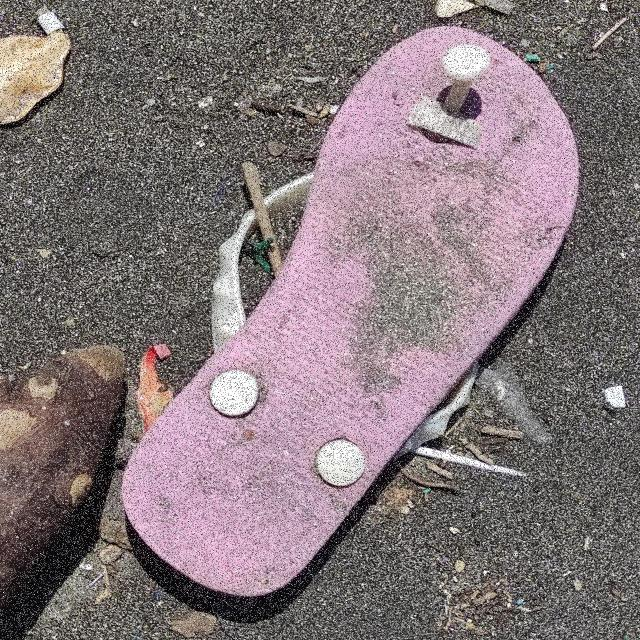rubber_waste: (123, 26, 591, 602)
